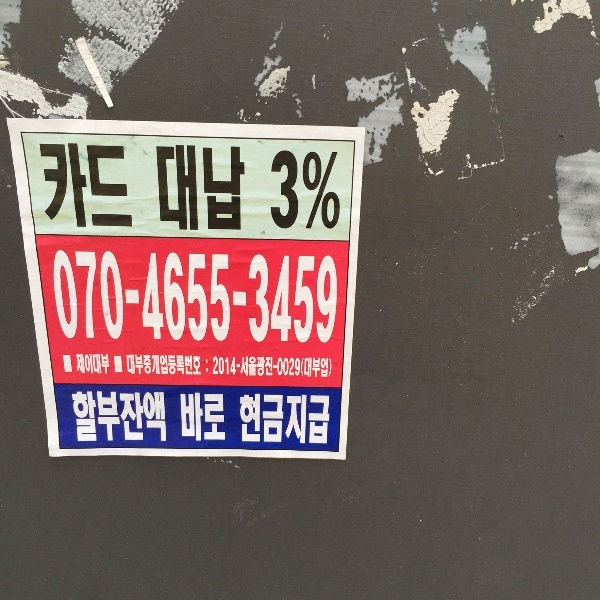text: (65, 248, 80, 351), (81, 248, 96, 351), (97, 248, 112, 351), (113, 248, 128, 351), (129, 248, 144, 351), (145, 248, 160, 351), (161, 248, 176, 351), (177, 248, 192, 351), (193, 248, 208, 351), (209, 248, 224, 351), (225, 248, 240, 351), (241, 248, 256, 351), (257, 248, 272, 351), (273, 248, 288, 351), (289, 248, 304, 351), (305, 248, 320, 351), (321, 248, 336, 351), (161, 145, 176, 237), (177, 145, 192, 237), (193, 145, 208, 237), (209, 145, 224, 237), (225, 145, 240, 237), (273, 146, 288, 236), (289, 146, 304, 236), (305, 146, 320, 236), (321, 146, 336, 236), (51, 248, 64, 351), (49, 145, 64, 232), (65, 145, 80, 232), (81, 145, 96, 232), (97, 145, 112, 232), (113, 145, 128, 232), (35, 145, 48, 232), (241, 391, 256, 449), (257, 391, 272, 449), (273, 391, 288, 449), (289, 391, 304, 449), (305, 391, 320, 449), (81, 389, 96, 446), (97, 389, 112, 446), (113, 389, 128, 446), (129, 389, 144, 446), (145, 389, 160, 446), (193, 391, 208, 443), (209, 391, 224, 443), (179, 391, 192, 443), (241, 145, 248, 237), (321, 391, 332, 449), (70, 389, 80, 446), (154, 145, 160, 237), (267, 146, 272, 236), (337, 146, 342, 236), (129, 145, 134, 232), (161, 389, 168, 446), (81, 353, 96, 378), (97, 353, 111, 378), (305, 357, 320, 378), (225, 356, 240, 376), (241, 356, 256, 376), (257, 356, 272, 376), (273, 356, 288, 376), (129, 355, 144, 375), (145, 355, 160, 375), (161, 355, 176, 375), (177, 355, 192, 375), (193, 355, 208, 375), (212, 356, 224, 376), (289, 356, 301, 376), (321, 357, 332, 378), (337, 248, 339, 351), (75, 353, 80, 378), (238, 391, 240, 449), (301, 357, 304, 378), (225, 391, 226, 443), (126, 355, 128, 375)
